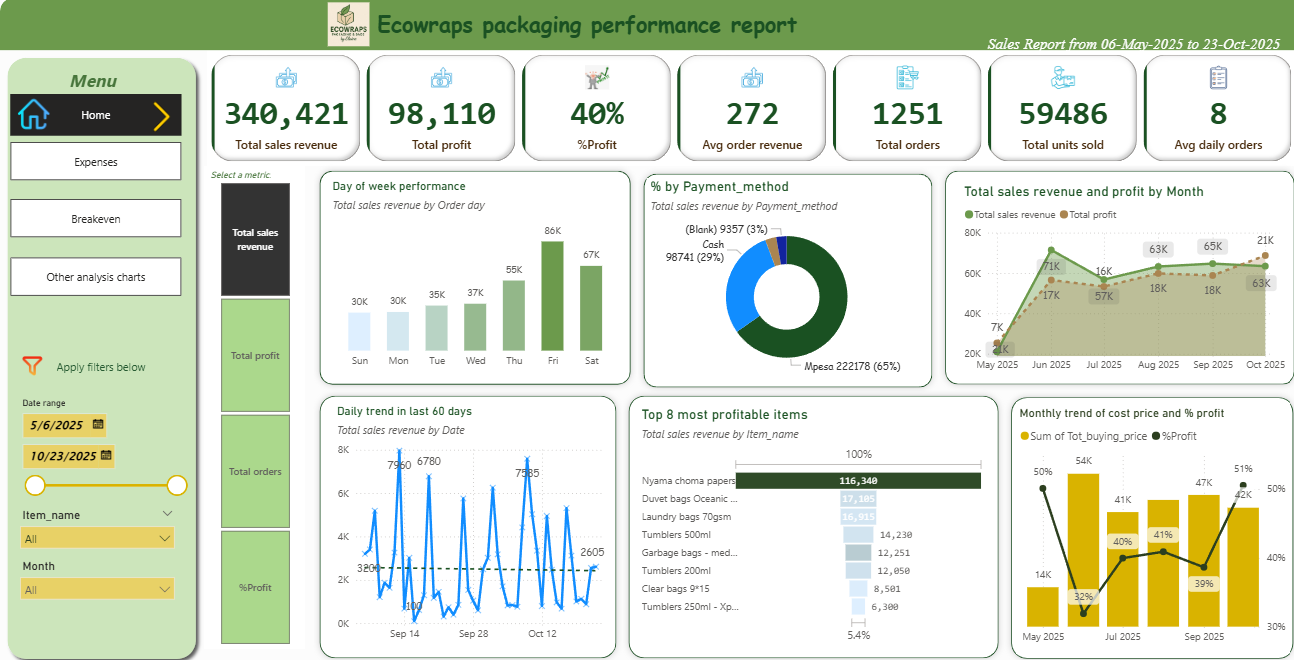

This screenshot's page, from the dashboard's own definition file:
{"tool":"powerbi","page":{"name":"Home","canvas":[1600,820],"ordinal":0},"visuals":[{"type":"cardVisual","fields":{"Data":["DailySales.Total sales revenue","DailySales.Total profit","DailySales.%Profit","DailySales.Avg order revenue","DailySales.Total orders","DailySales.Total units sold","DailySales.Avg daily orders"]},"box":[253.6,64.4,1345.7,142],"z":0},{"type":"shape","box":[0,0,1649.4,64.4],"z":1000},{"type":"textbox","box":[403.8,7.5,635.8,49.1],"z":2000},{"type":"image","box":[383,0,90.6,64.2],"z":3000},{"type":"shape","box":[386.1,204.4,397.5,278.2],"z":4000},{"type":"clusteredColumnChart","title":"Day of week performance","fields":{"Y":["DailySales.Total orders"],"Category":["DailySales.Order day"]},"box":[403.2,223.3,361.5,240.4],"z":5000},{"type":"shape","box":[1154,204,446,278],"z":6000},{"type":"areaChart","title":"Total sales revenue and profit by Month","fields":{"Y":["DailySales.Total sales revenue"],"Category":["DailySales.Month"],"Y2":["DailySales.Total profit"]},"box":[1180,226,404,242],"z":7000},{"type":"shape","box":[386,482,380,338],"z":8000},{"type":"shape","box":[784,208,370,278],"z":9000},{"type":"shape","box":[1236,482.7,363.4,336.9],"z":10000},{"type":"shape","box":[766,482,470,338],"z":11000},{"type":"donutChart","title":"% by Payment_method","fields":{"Y":["DailySales.Total orders"],"Category":["DailySales.Payment_method"]},"box":[793.1,221.5,342.6,249.8],"z":12000},{"type":"funnel","title":"Top 8 most profitable items","fields":{"Y":["DailySales.Total orders"],"Category":["DailySales.Item_name"]},"box":[784,502,432,296],"z":13000},{"type":"shape","box":[0,64.4,249.8,757.1],"z":14000},{"type":"lineChart","title":"Daily trend in last 60 days","fields":{"Y":["DailySales.Total orders"],"Category":["DailySales.Date"]},"box":[410,500,346,300],"z":15000},{"type":"slicer","fields":{"Values":["DailySales.Item_name"]},"box":[14,622,210,76],"z":16000},{"type":"slicer","fields":{"Values":["DailySales.Date"]},"box":[14,486,224,136],"z":17000},{"type":"image","box":[14.8,429.7,49.8,44.3],"z":18000},{"type":"lineClusteredColumnComboChart","title":"Monthly trend of cost price and % profit","fields":{"Y":["Sum(DailySales.Tot_buying_price)"],"Y2":["DailySales.%Profit"],"Category":["DailySales.Month"]},"box":[1249.2,501.6,336.9,300.9],"z":19000},{"type":"pageNavigator","box":[13.2,117.4,210.1,51.1],"z":20000},{"type":"pageNavigator","box":[13.2,177.9,210.1,47.3],"z":21000},{"type":"image","box":[176,115.5,47.3,58.7],"z":22000},{"type":"card","fields":{"Values":["DailySales.Date Range"]},"box":[1180.9,31.2,427.5,50.7],"z":23000},{"type":"textbox","box":[64.5,438.9,149.4,35],"z":24000},{"type":"slicer","fields":{"Values":["DailySales.Month"]},"box":[14,684,210,68],"z":25000},{"type":"slicer","fields":{"Values":["Metrics.Metrics"]},"box":[250,206,124,594],"z":26000},{"type":"textbox","box":[14,82,198,54],"z":27000},{"type":"pageNavigator","box":[13.2,248,210.1,47.3],"z":28000},{"type":"pageNavigator","box":[13.2,319.9,210.1,47.3],"z":29000},{"type":"image","box":[15.1,117.4,53,49.2],"z":30000}]}

Visuals, with their boxes in screenshot pixels (x1, y1, x2, y2), scaled from the page's 1600x820 canvas onto the 1294x660 screenshot:
cardVisual - DailySales.Total sales revenue x DailySales.Total profit: crop(205, 52, 1293, 166)
shape: crop(0, 0, 1293, 52)
textbox: crop(327, 6, 841, 46)
image: crop(310, 0, 383, 52)
shape: crop(312, 165, 634, 388)
"Day of week performance" clusteredColumnChart: crop(326, 180, 618, 373)
shape: crop(933, 164, 1293, 388)
"Total sales revenue and profit by Month" areaChart: crop(954, 182, 1281, 377)
shape: crop(312, 388, 620, 659)
shape: crop(634, 167, 933, 391)
shape: crop(1000, 389, 1293, 659)
shape: crop(620, 388, 1000, 659)
"% by Payment_method" donutChart: crop(641, 178, 918, 379)
"Top 8 most profitable items" funnel: crop(634, 404, 983, 642)
shape: crop(0, 52, 202, 659)
"Daily trend in last 60 days" lineChart: crop(332, 402, 611, 644)
slicer - DailySales.Item_name: crop(11, 501, 181, 562)
slicer - DailySales.Date: crop(11, 391, 192, 501)
image: crop(12, 346, 52, 382)
"Monthly trend of cost price and % profit" lineClusteredColumnComboChart: crop(1010, 404, 1283, 646)
pageNavigator: crop(11, 94, 181, 136)
pageNavigator: crop(11, 143, 181, 181)
image: crop(142, 93, 181, 140)
card - DailySales.Date Range: crop(955, 25, 1293, 66)
textbox: crop(52, 353, 173, 381)
slicer - DailySales.Month: crop(11, 551, 181, 605)
slicer - Metrics.Metrics: crop(202, 166, 302, 644)
textbox: crop(11, 66, 171, 109)
pageNavigator: crop(11, 200, 181, 238)
pageNavigator: crop(11, 257, 181, 296)
image: crop(12, 94, 55, 134)
